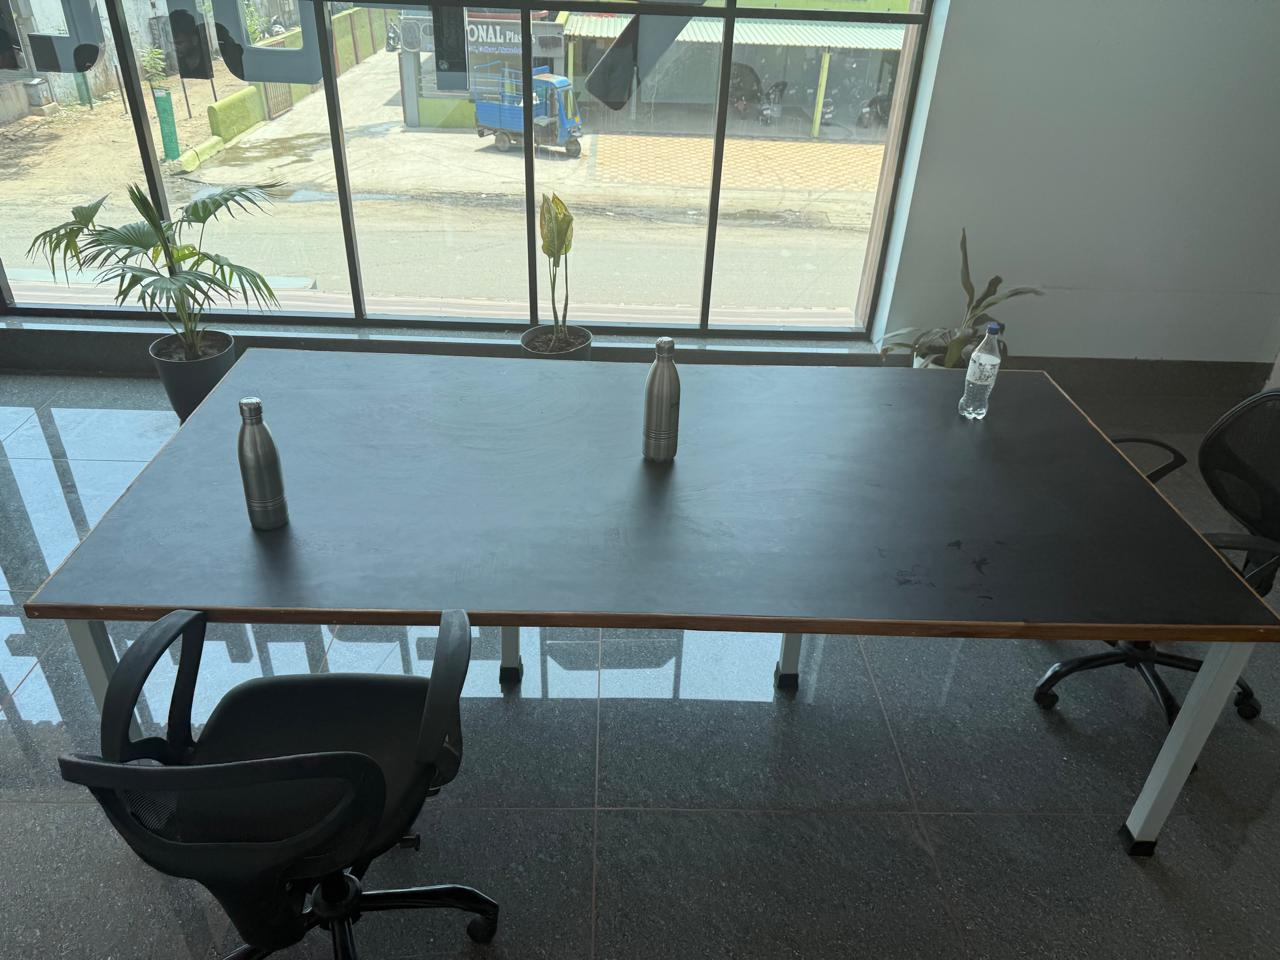bottle_on_table: (215, 391, 322, 541), (629, 308, 700, 490), (957, 304, 1008, 432)
